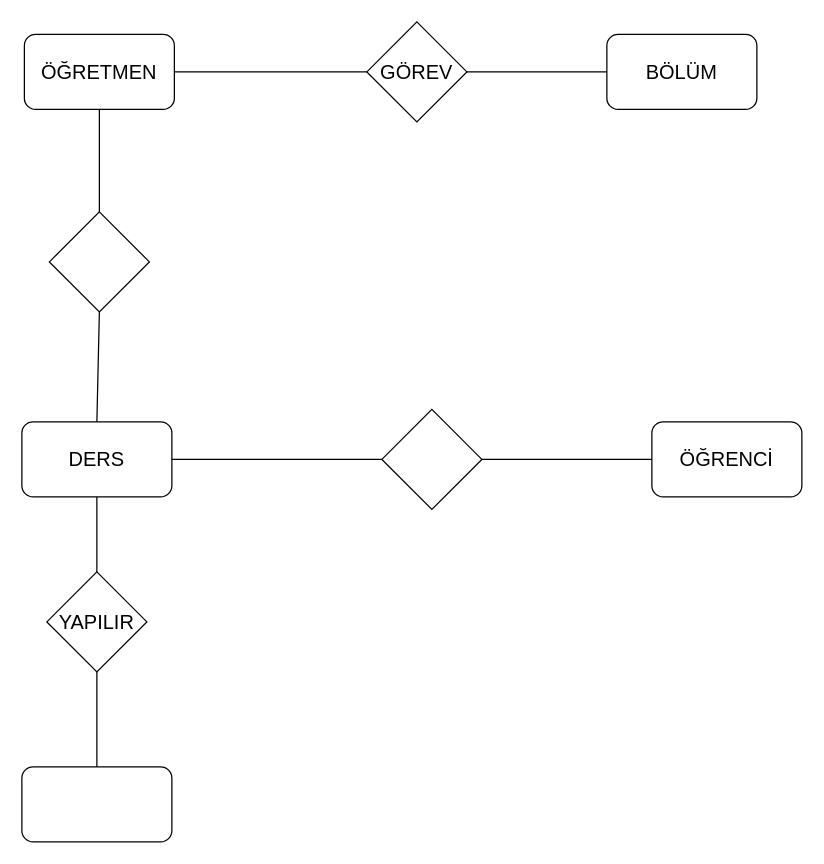
Some shapes in this 824 by 864 pixel diagram are drawn without their labels. The shapes that lost their labels are listed below. From the top down, each one's box as (x1, y1, x2, y2) in pixels, then its label:
(48, 211, 149, 312): VERİR
(381, 408, 482, 509): ALIR
(21, 766, 172, 842): SINIF
